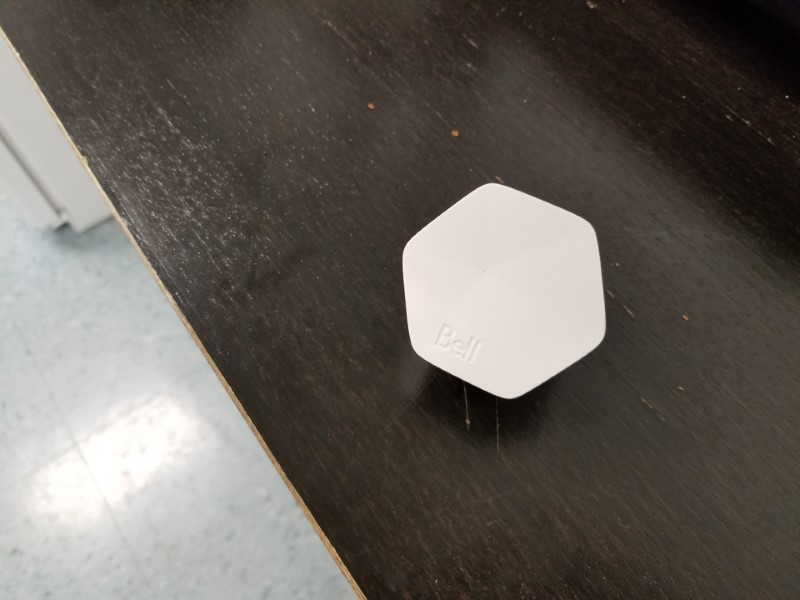pod: (397, 180, 613, 403)
